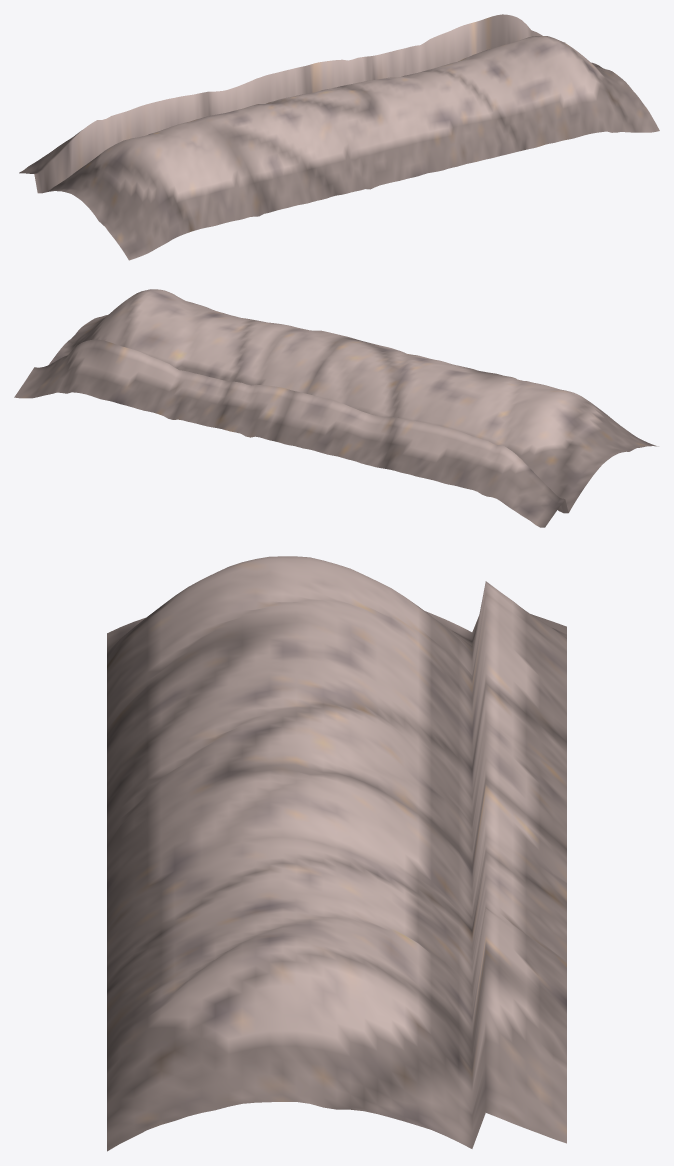
Rendered from shield_kit.glb.
The picture shows the model from 3 angles, top to bottom: view 1: azimuth 30°, elevation 25°; view 2: azimuth 150°, elevation 25°; view 3: azimuth 270°, elevation 25°; orthographic projection. The views are drawn at different scales.
Parts seen in each view (by area): view 1: whaleback; view 2: whaleback; view 3: whaleback.
Part boxes in pixels (<box>): whaleback: <box>19,14,659,260</box>; whaleback: <box>14,289,658,527</box>; whaleback: <box>107,556,566,1151</box>.
Bounding box in the file's own units: 80 × 10.46 × 30.
